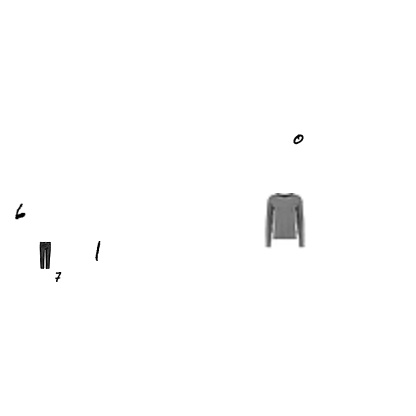0: (291, 132, 305, 146)
1: (83, 236, 111, 264)
6: (8, 202, 30, 224)
7: (51, 269, 65, 283)
Pullover: (257, 193, 313, 249)
Trouser: (31, 241, 59, 269)
